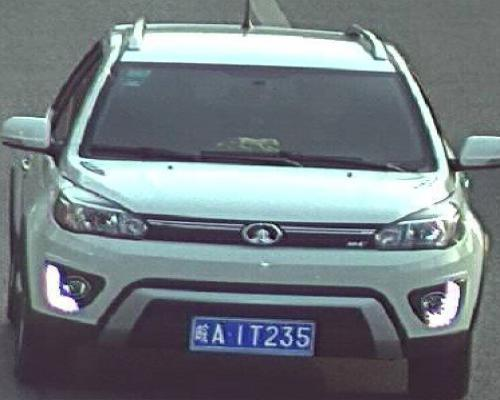Carplate: (176, 308, 326, 365)
